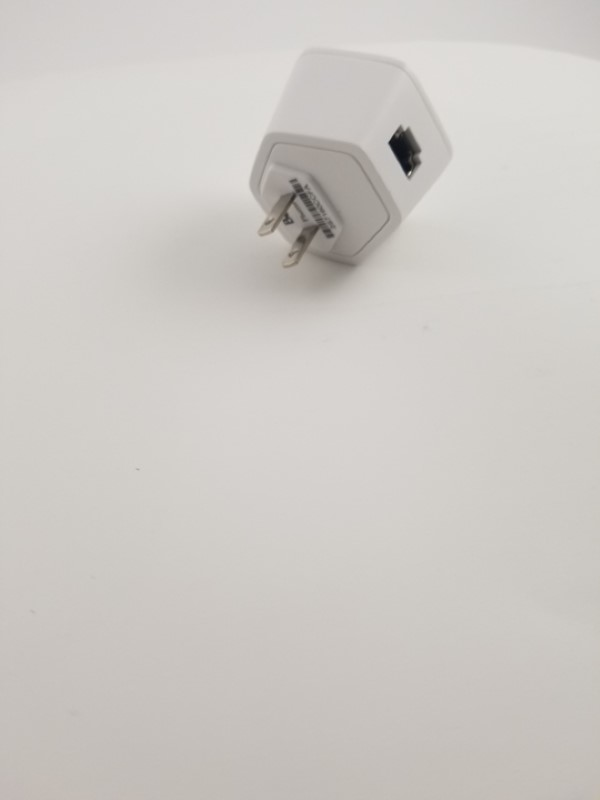pod: (245, 45, 461, 288)
